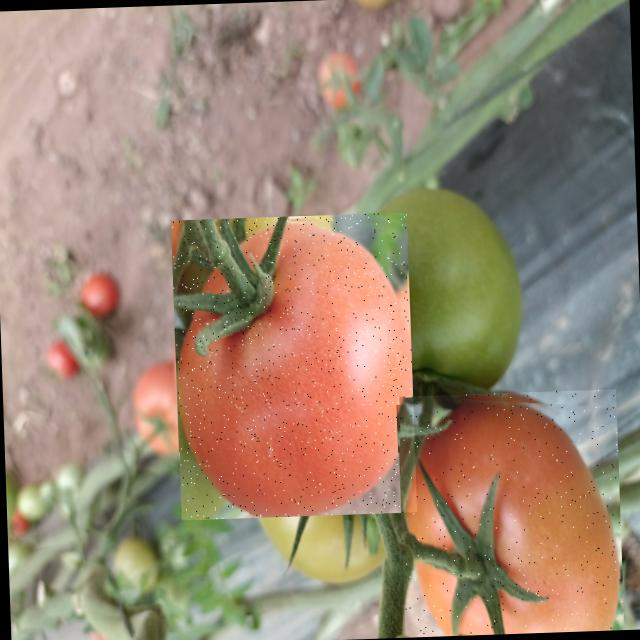Ripe Tomato: (170, 212, 417, 520), (397, 389, 624, 637)
